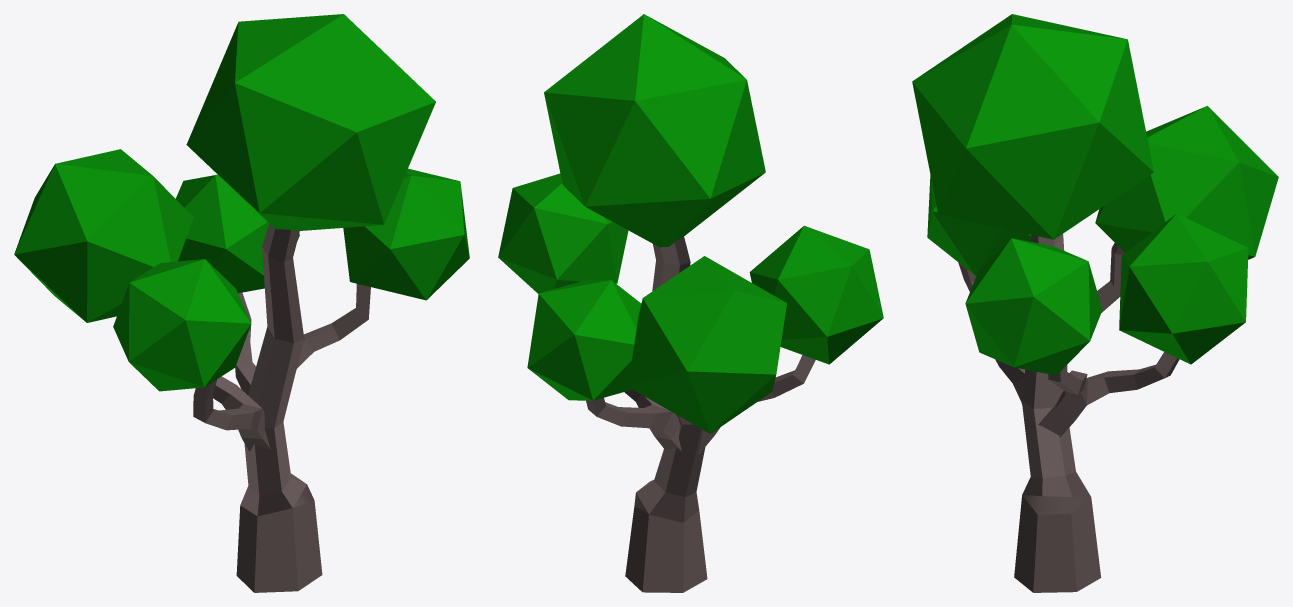
Rendered from Wood_V1.fbx.
3 views of the same model, side by side, from view 1: azimuth 30°, elevation 25°; view 2: azimuth 150°, elevation 25°; view 3: azimuth 270°, elevation 25° (orthographic). The views are drawn at different scales.
Parts seen in each view (by area): view 1: Wood_V1; view 2: Wood_V1; view 3: Wood_V1.
Part boxes in pixels (x1,y1,x2,y2): Wood_V1: (14,14,469,592); Wood_V1: (498,14,883,592); Wood_V1: (912,14,1278,592).
Bounding box in the file's own units: 4.15 × 6.22 × 3.59.
